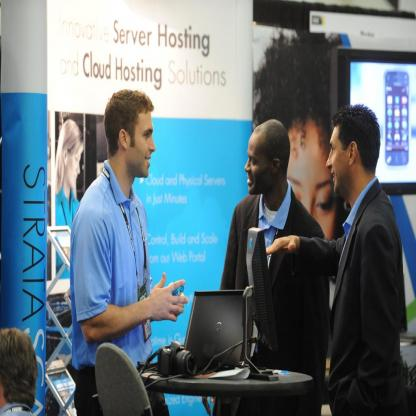board: (183, 286, 246, 380)
